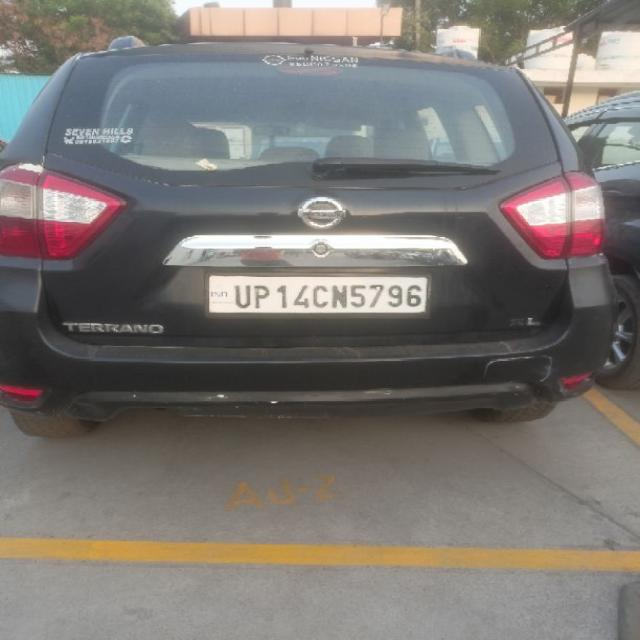license_plate: (203, 270, 433, 318)
